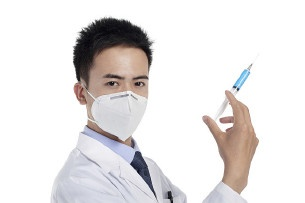Mask: (89, 71, 148, 131)
